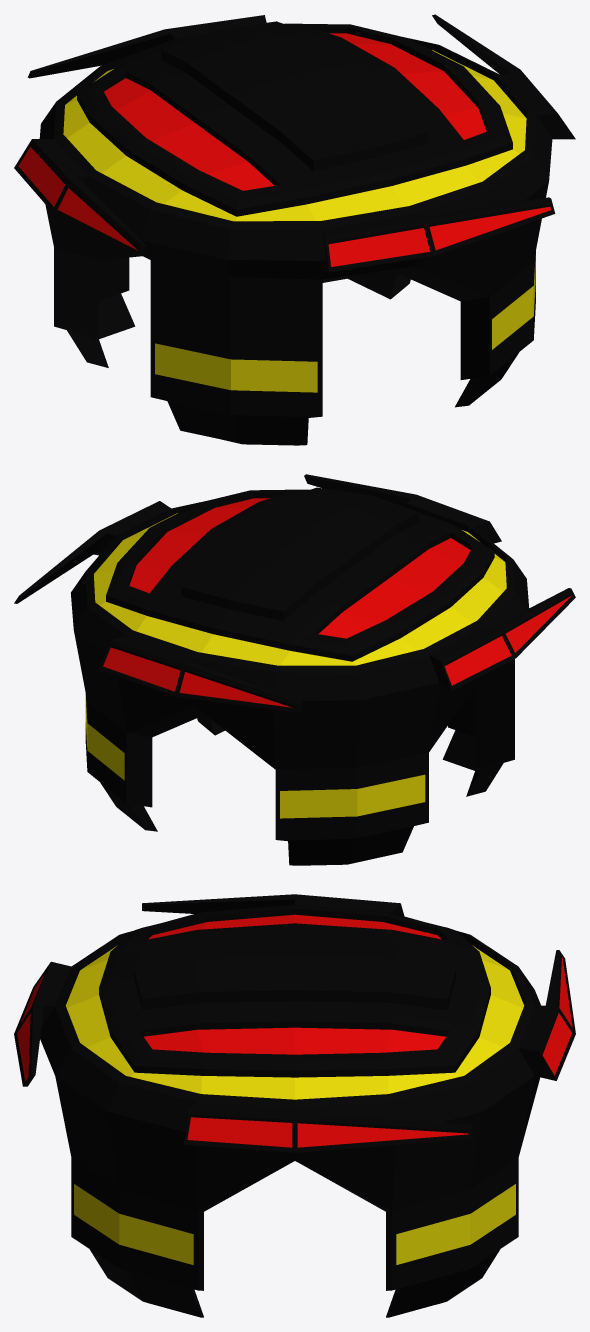
3 renders of one model, top to bottom at view 1: azimuth 30°, elevation 25°; view 2: azimuth 150°, elevation 25°; view 3: azimuth 270°, elevation 25°, orthographic. The views are drawn at different scales.
Parts seen in each view (by area): view 1: Plane; view 2: Plane; view 3: Plane.
Boxes of the visible parts, x1,y1,x2,y2 form: Plane: (14,14,575,445); Plane: (14,474,575,865); Plane: (14,894,575,1317).
Bounding box in the file's own units: 183 × 106 × 183.
